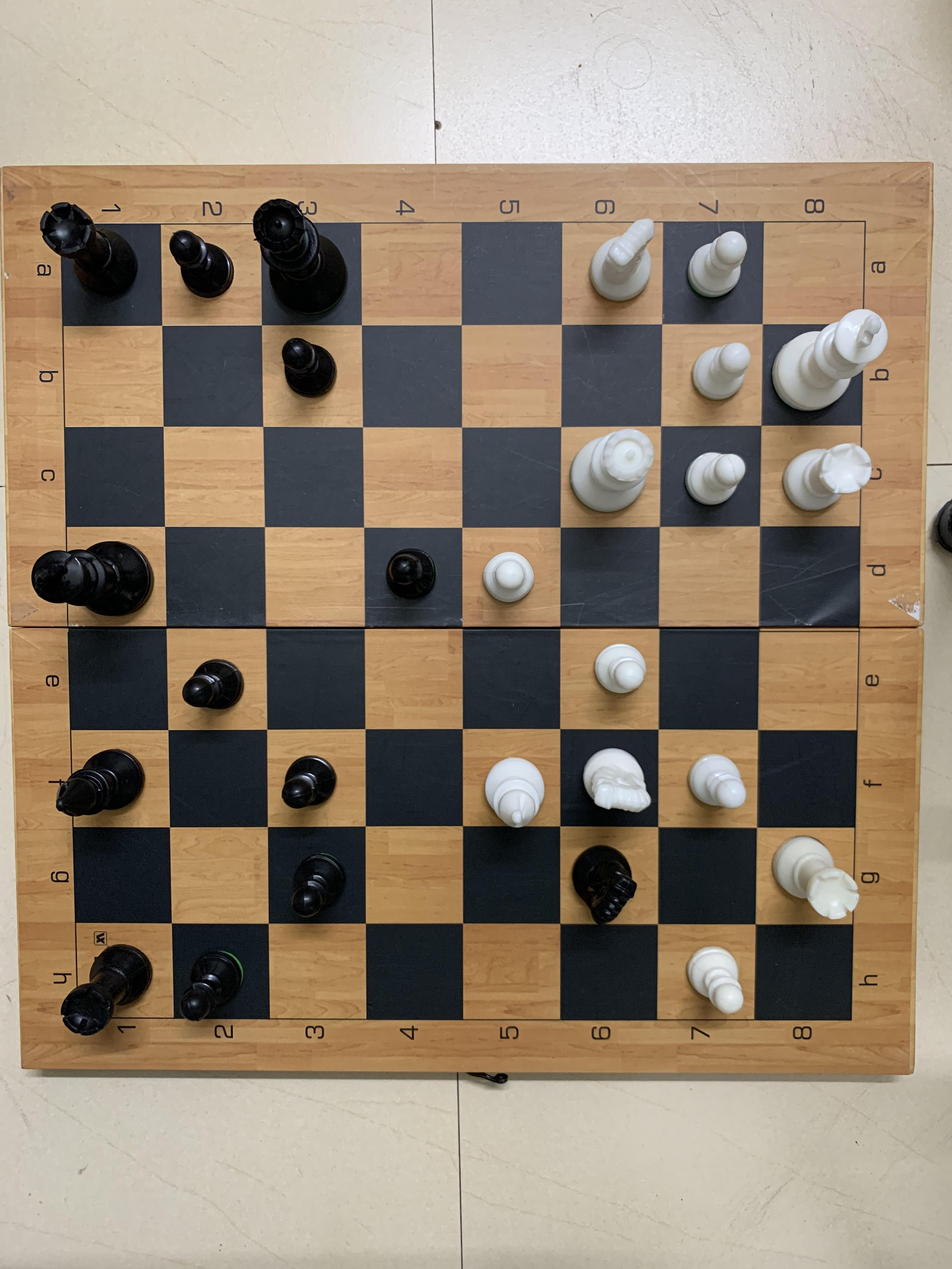black_bishop: (49, 738, 154, 826)
black_king: (20, 534, 163, 626)
black_knight: (564, 838, 652, 937)
black_pawn: (170, 942, 253, 1026), (266, 325, 344, 408), (167, 226, 238, 305), (381, 535, 442, 615), (178, 654, 251, 715), (287, 851, 346, 926), (276, 749, 339, 815)
black_queen: (248, 192, 354, 318)
black_rook: (42, 932, 164, 1046), (33, 198, 144, 317)
white_bishop: (479, 747, 549, 833)
white_king: (766, 302, 888, 416)
white_knight: (582, 209, 662, 315), (574, 733, 660, 826)
white_pawn: (677, 938, 755, 1022), (680, 740, 753, 822), (683, 226, 752, 305), (676, 439, 747, 515), (682, 340, 753, 410), (473, 547, 546, 610), (591, 639, 650, 699)
white_queen: (564, 428, 656, 522)
white_rook: (770, 828, 867, 925), (781, 428, 878, 522)
